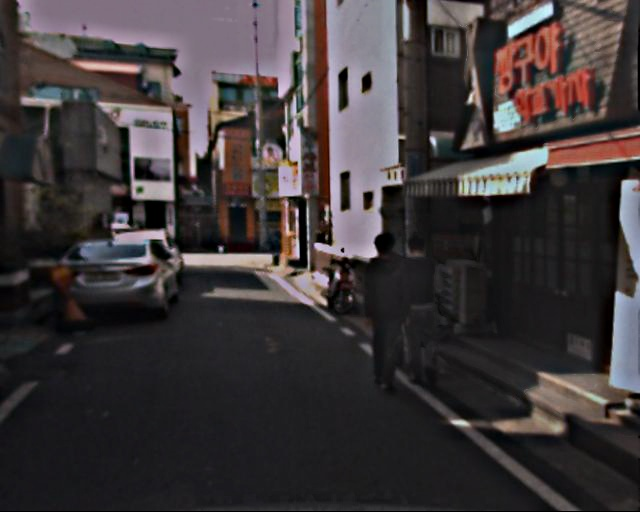person: (354, 235, 418, 392), (388, 235, 448, 382)
